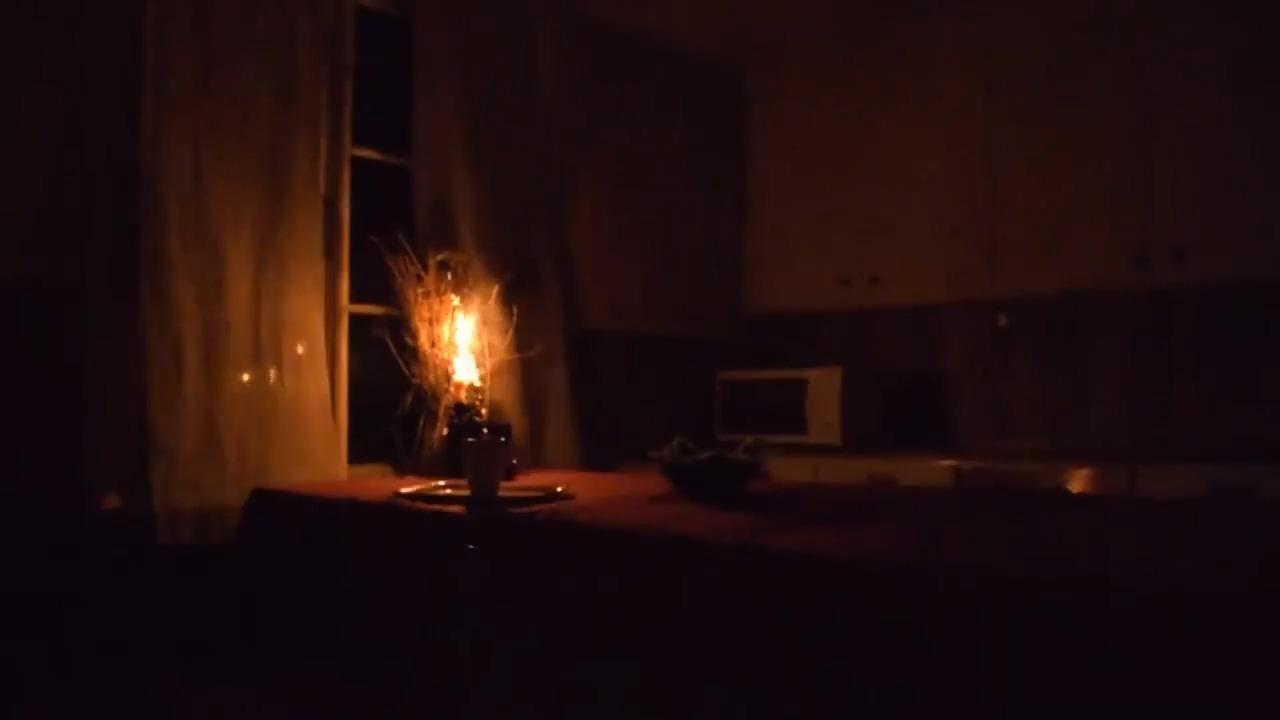fire: (433, 291, 507, 396)
